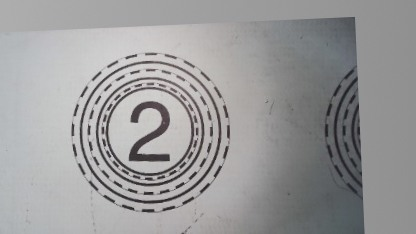2r: (66, 48, 234, 216)
